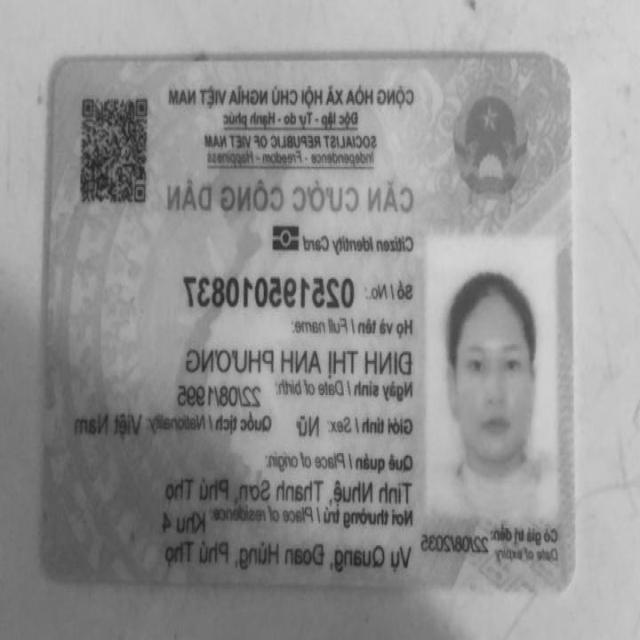bottom_left: (540, 554, 596, 615)
bottom_right: (28, 544, 80, 596)
image_person: (417, 242, 564, 522)
top_left: (531, 42, 587, 98)
top_right: (34, 43, 90, 97)
